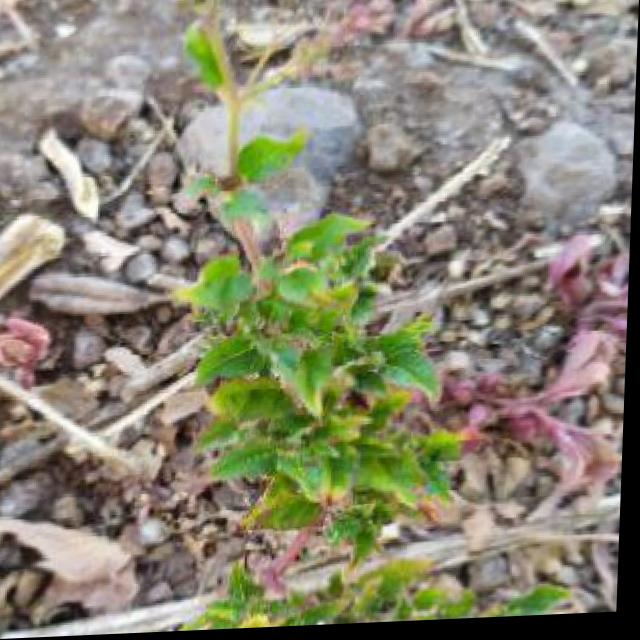weed: (108, 141, 546, 636)
